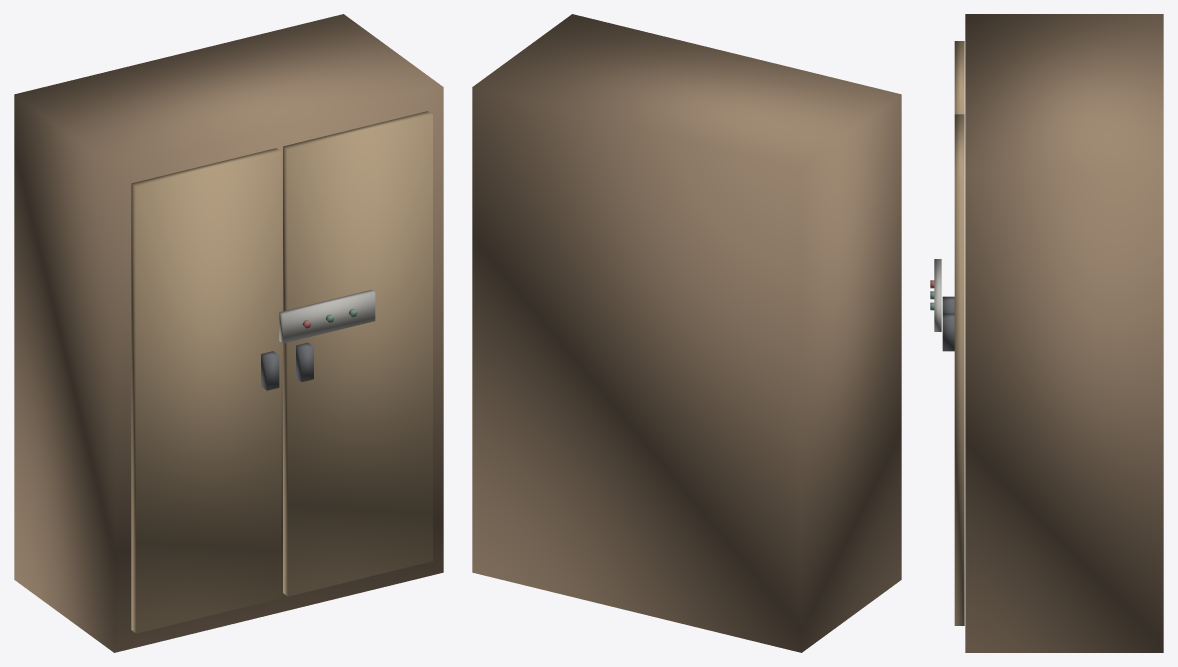
Rendered from kitchen_wall_cabinet__reinforced.glb.
3 renders of one model, left to right at view 1: azimuth 30°, elevation 25°; view 2: azimuth 150°, elevation 25°; view 3: azimuth 270°, elevation 25°, orthographic.
Parts seen in each view (by area): view 1: world; view 2: world; view 3: world.
Boxes of the visible parts, box(x1,y1,x2,y2) form: world: box(14, 14, 443, 652); world: box(472, 14, 901, 652); world: box(930, 14, 1163, 652).
Bounding box in the file's own units: 0.9785 × 1.38 × 0.6062.
